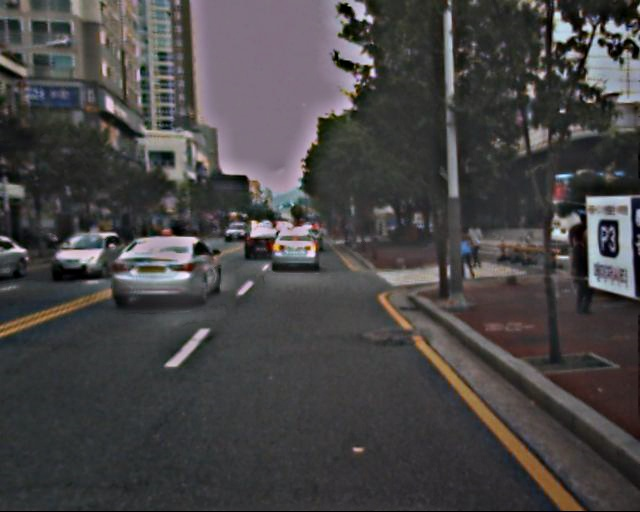person: (568, 233, 601, 314), (569, 214, 599, 286), (454, 226, 476, 280), (465, 222, 485, 270)
